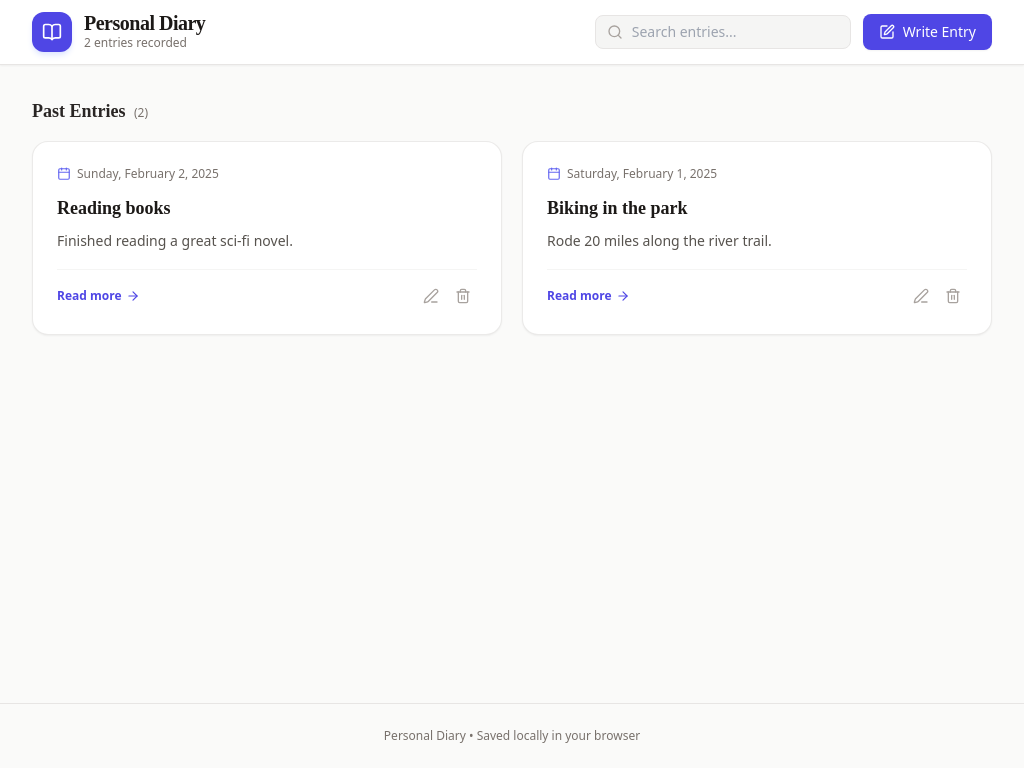
Test: Personal Diary App › filters past entries by search query
Type "river" into the field labelled "Search entries...". click: (723, 32)
box: [595, 15, 851, 49]
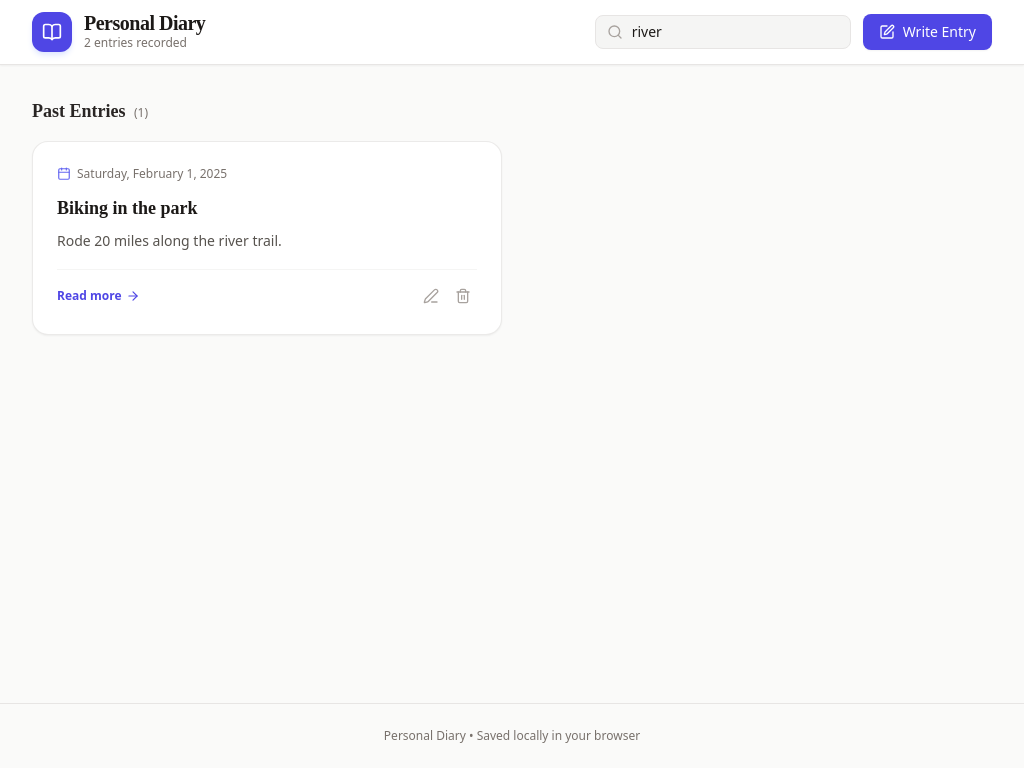
Expected: the heading "Biking in the park" is shown, [57, 198, 198, 218]
Expected: the heading "Reading books" is gone
